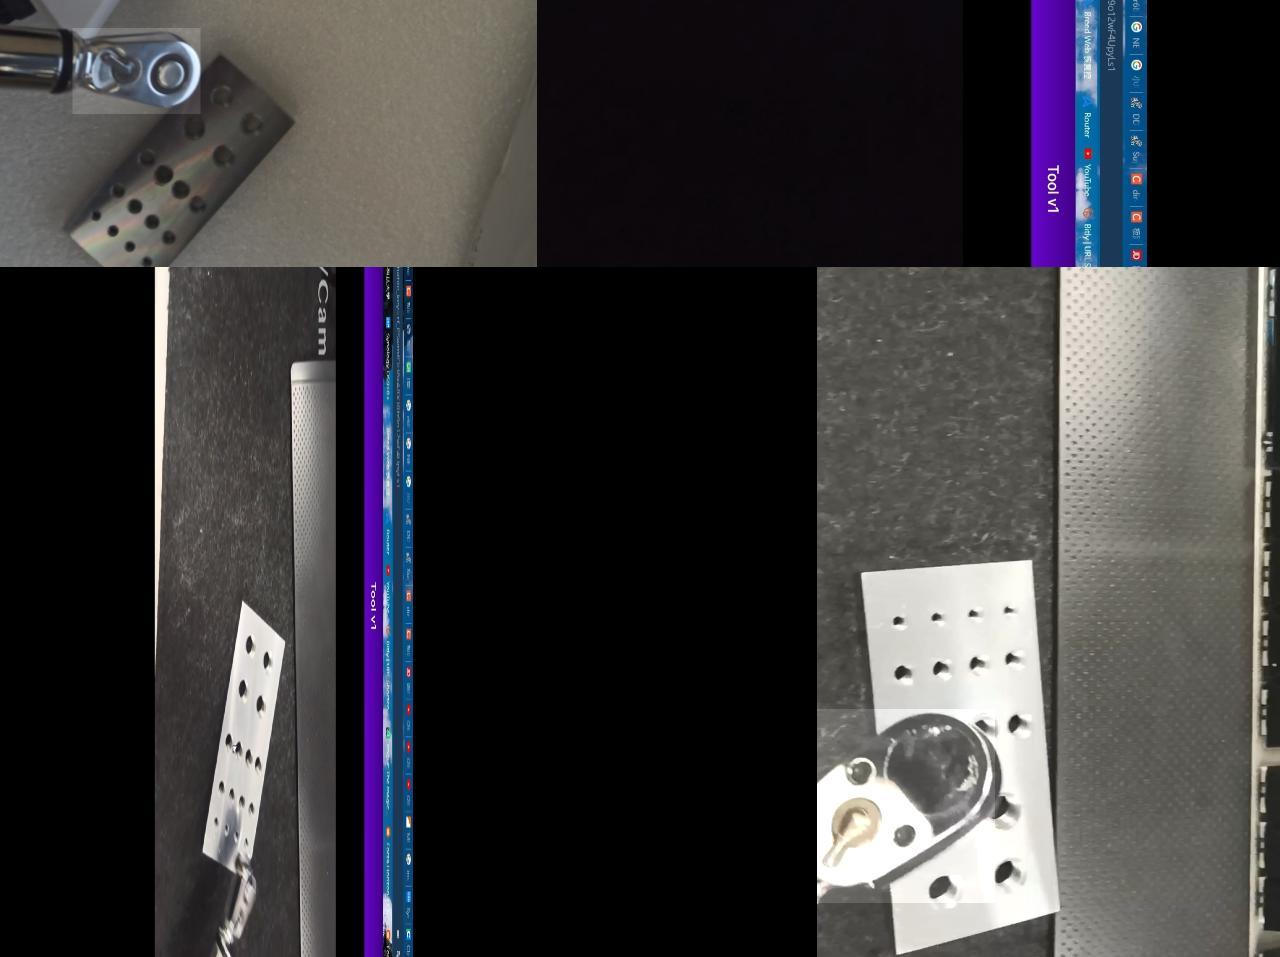Tool: (817, 710, 994, 903), (74, 29, 200, 117)
hole: (990, 850, 1027, 902), (927, 874, 963, 914), (991, 790, 1022, 834), (1005, 711, 1033, 742), (212, 77, 232, 118), (208, 141, 234, 170), (240, 111, 263, 142), (888, 663, 916, 689), (184, 109, 205, 140), (1004, 644, 1026, 675), (149, 165, 177, 187), (966, 653, 988, 678), (931, 657, 952, 681), (123, 196, 147, 216), (139, 211, 163, 231), (170, 179, 194, 199), (251, 693, 268, 719), (891, 610, 909, 634), (966, 602, 983, 626), (243, 632, 257, 660), (158, 228, 176, 249), (927, 609, 946, 627), (138, 152, 157, 169), (87, 207, 106, 224), (999, 602, 1016, 621), (260, 648, 272, 674), (104, 224, 122, 240), (237, 677, 248, 702), (122, 239, 137, 257), (243, 748, 254, 770), (114, 182, 127, 199), (253, 754, 263, 776), (140, 251, 152, 268), (224, 732, 234, 752), (236, 741, 245, 761), (217, 779, 226, 797), (228, 786, 235, 803), (247, 801, 255, 815), (238, 795, 245, 810)
